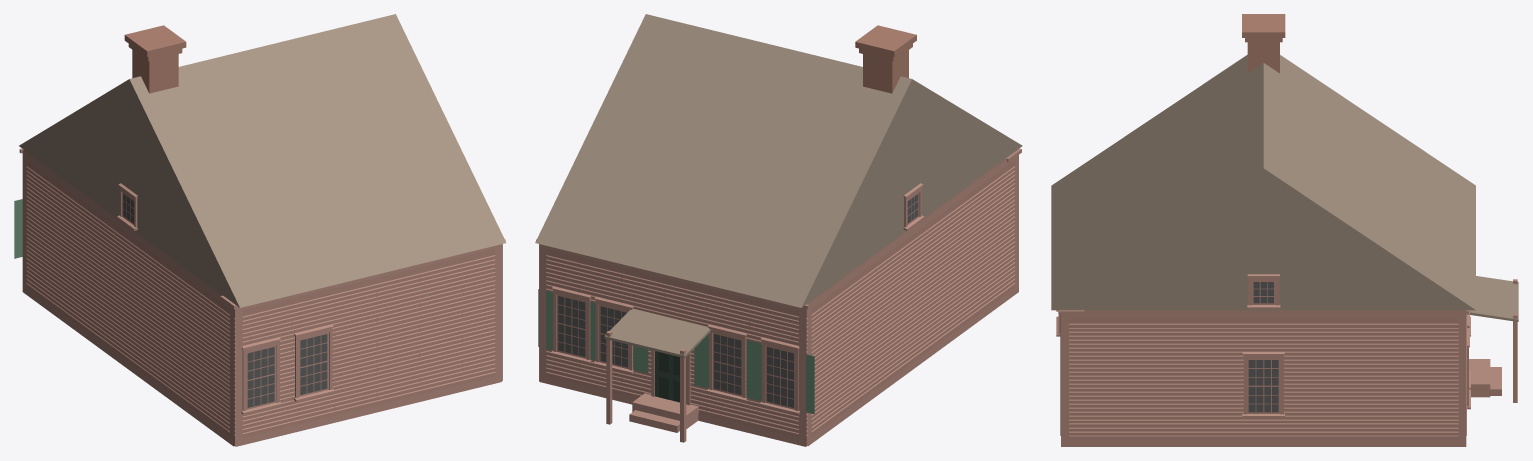
Rendered from recon_1835_blk_washington_franklin_h1_03__inferred_1835.glb.
The picture shows the model from 3 angles, left to right: view 1: azimuth 30°, elevation 25°; view 2: azimuth 150°, elevation 25°; view 3: azimuth 270°, elevation 25°; orthographic projection. The views are drawn at different scales.
Parts seen in each view (by area): view 1: recon_1835_blk_washington_franklin_h1_03__inferred_1835; view 2: recon_1835_blk_washington_franklin_h1_03__inferred_1835; view 3: recon_1835_blk_washington_franklin_h1_03__inferred_1835.
Boxes of the visible parts, bbox=[...] form: recon_1835_blk_washington_franklin_h1_03__inferred_1835: bbox=[14, 14, 506, 446]; recon_1835_blk_washington_franklin_h1_03__inferred_1835: bbox=[535, 14, 1022, 446]; recon_1835_blk_washington_franklin_h1_03__inferred_1835: bbox=[1051, 14, 1518, 446].
Bounding box in the file's own units: 8.01 × 8.89 × 12.1.
